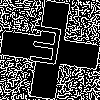E: (25, 25, 65, 75)
